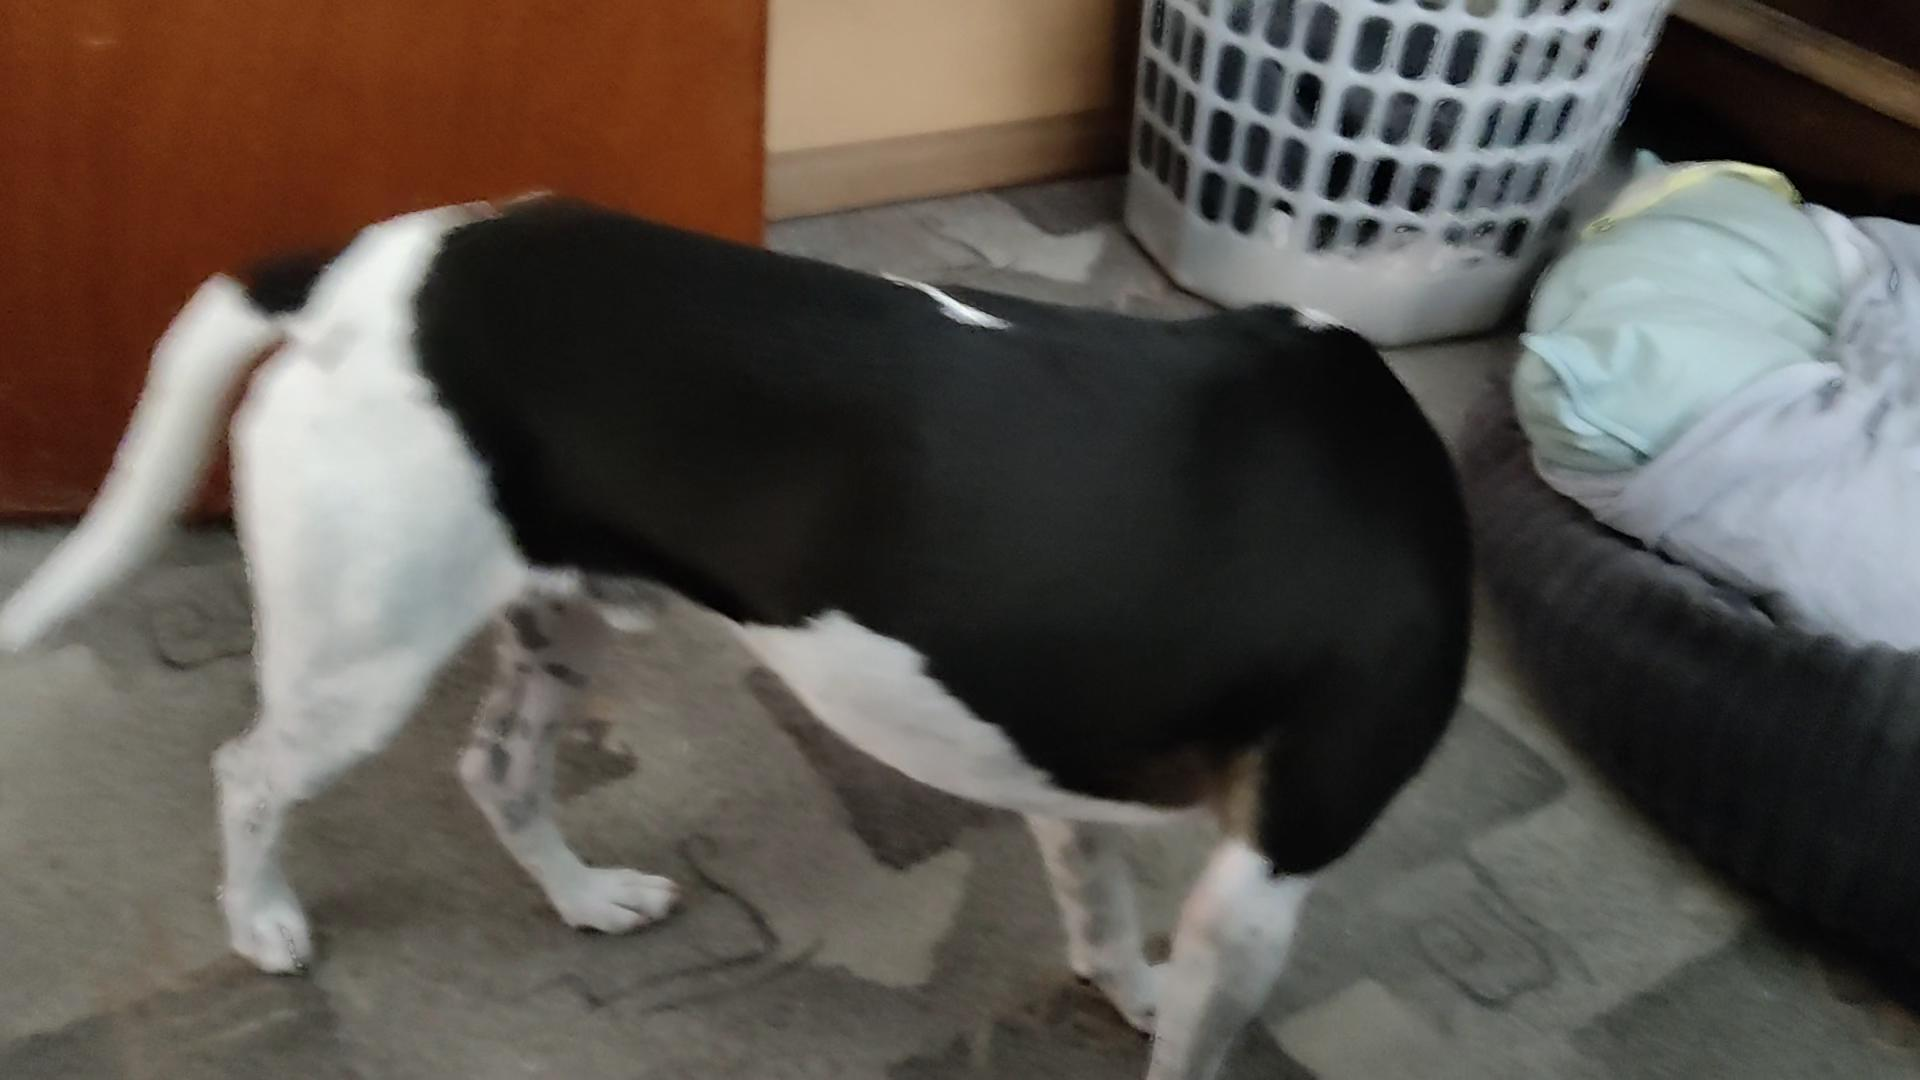Dog: (0, 181, 1510, 1079)
